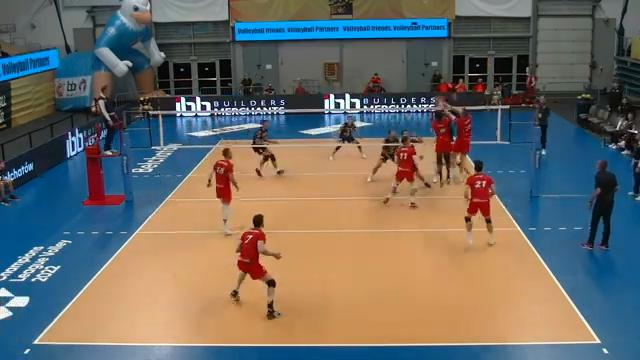muro: (439, 93, 474, 183), (424, 96, 454, 190)
